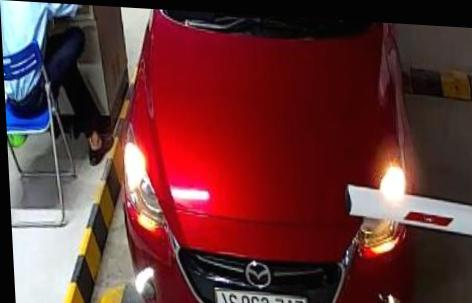License_Plate: (215, 287, 311, 303)
